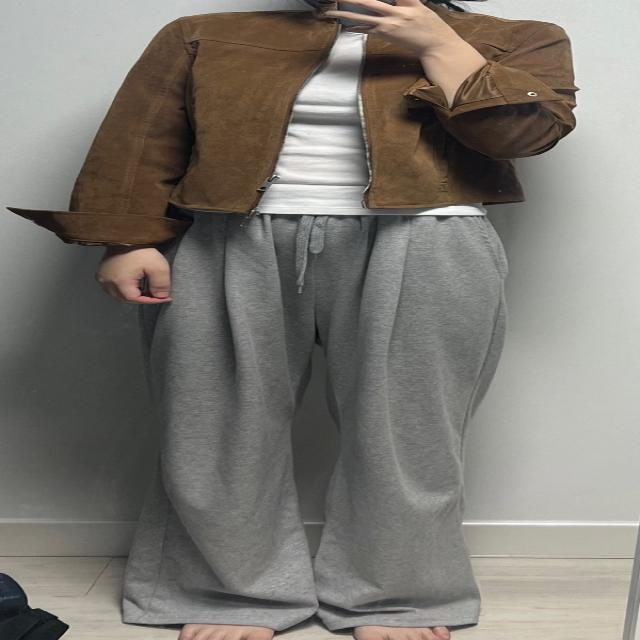jacket: (56, 7, 590, 264)
trainingpants: (142, 212, 507, 639)
